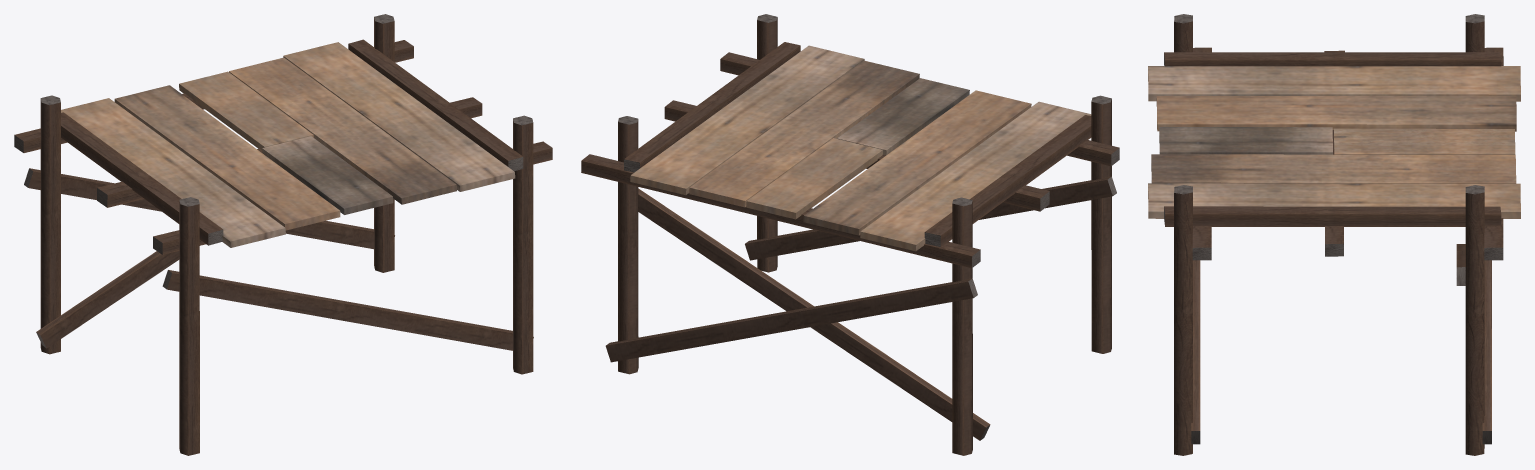
Rendered from jov_Pier1a.fbx.
The picture shows the model from 3 angles, left to right: view 1: azimuth 30°, elevation 25°; view 2: azimuth 150°, elevation 25°; view 3: azimuth 270°, elevation 25°; orthographic projection. The views are drawn at different scales.
Visible parts, largest first — view 1: jov_Pier1a; view 2: jov_Pier1a; view 3: jov_Pier1a.
Boxes of the visible parts, x1,y1,x2,y2 form: jov_Pier1a: [14, 14, 552, 455]; jov_Pier1a: [581, 14, 1119, 455]; jov_Pier1a: [1148, 14, 1520, 455].
Size of the model in its own units: 244 by 149 by 192.
